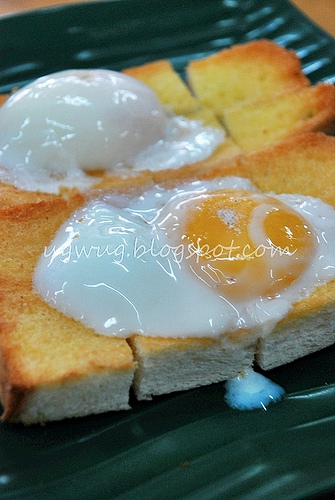egg: (36, 178, 333, 338), (0, 67, 225, 198)
